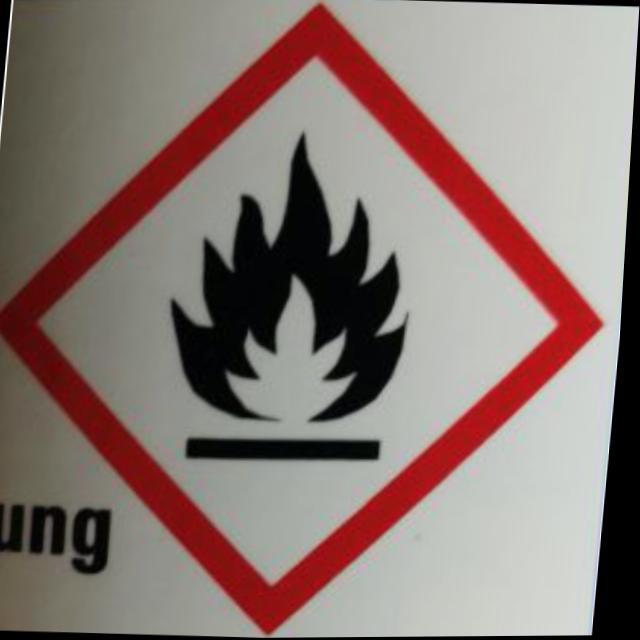flammable: (159, 125, 428, 466)
